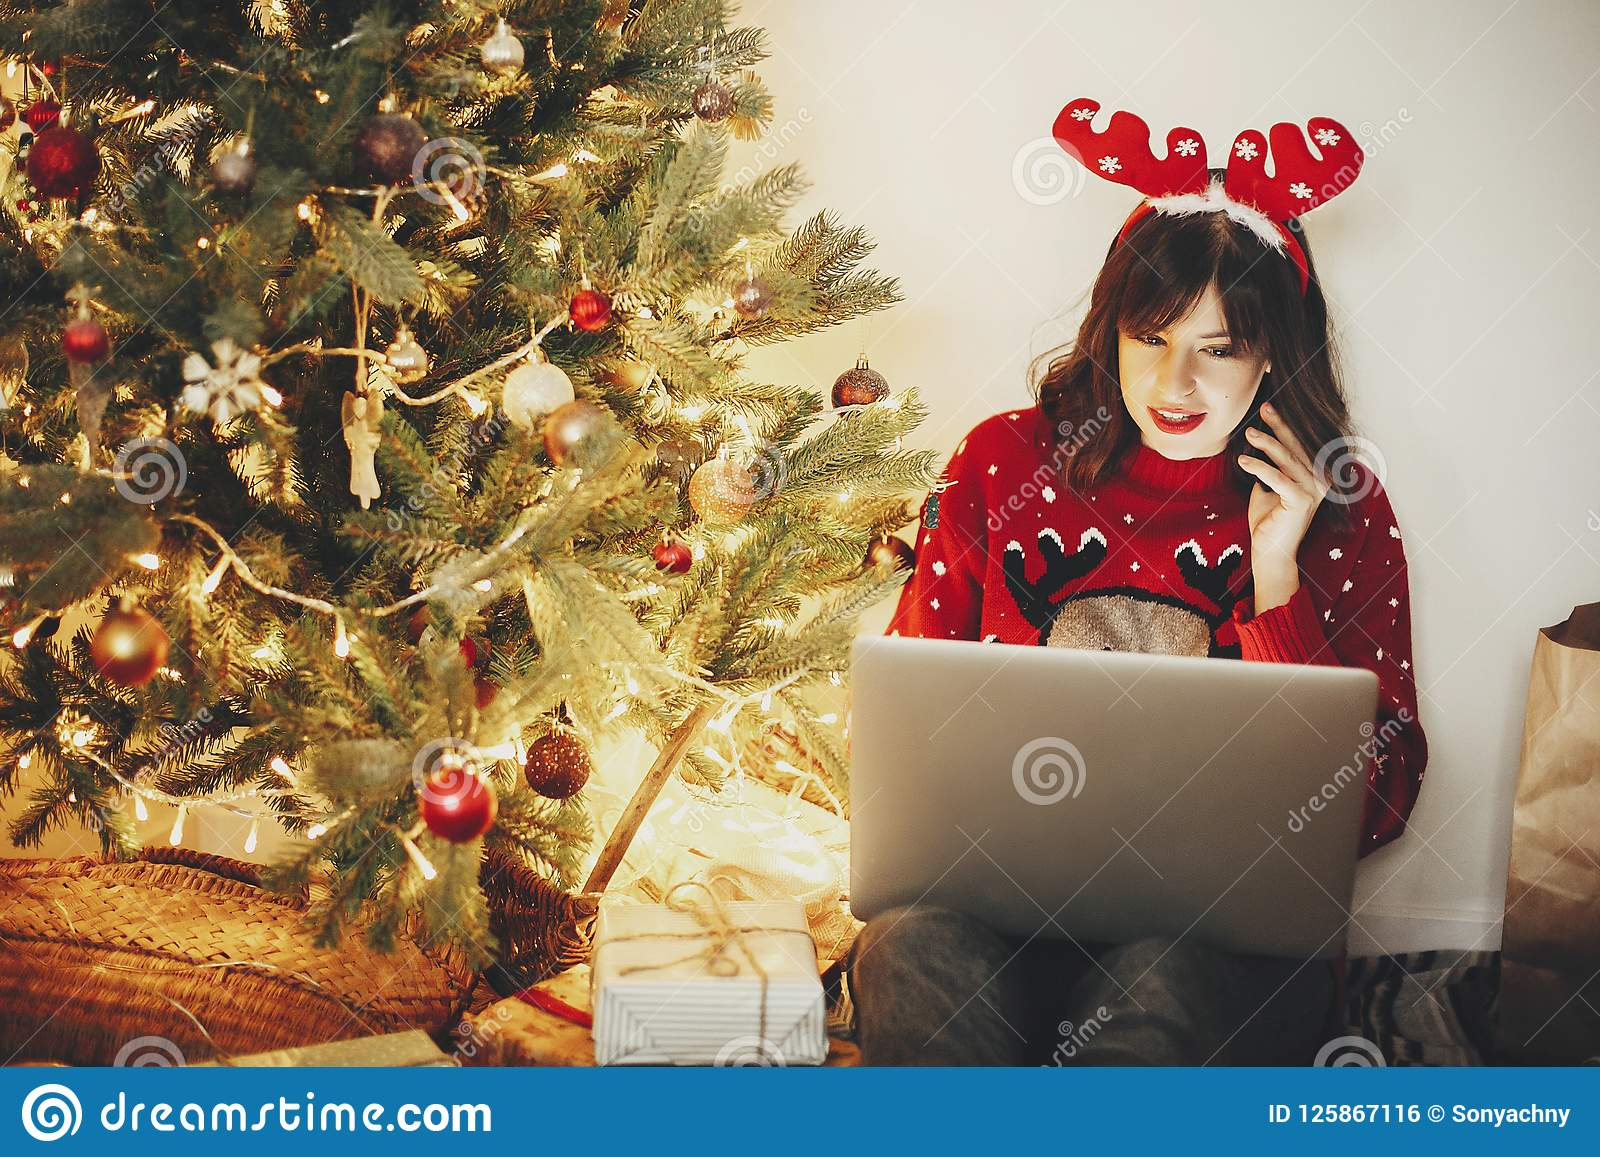phone: (1230, 353, 1278, 502)
talk: (1117, 313, 1333, 589)
